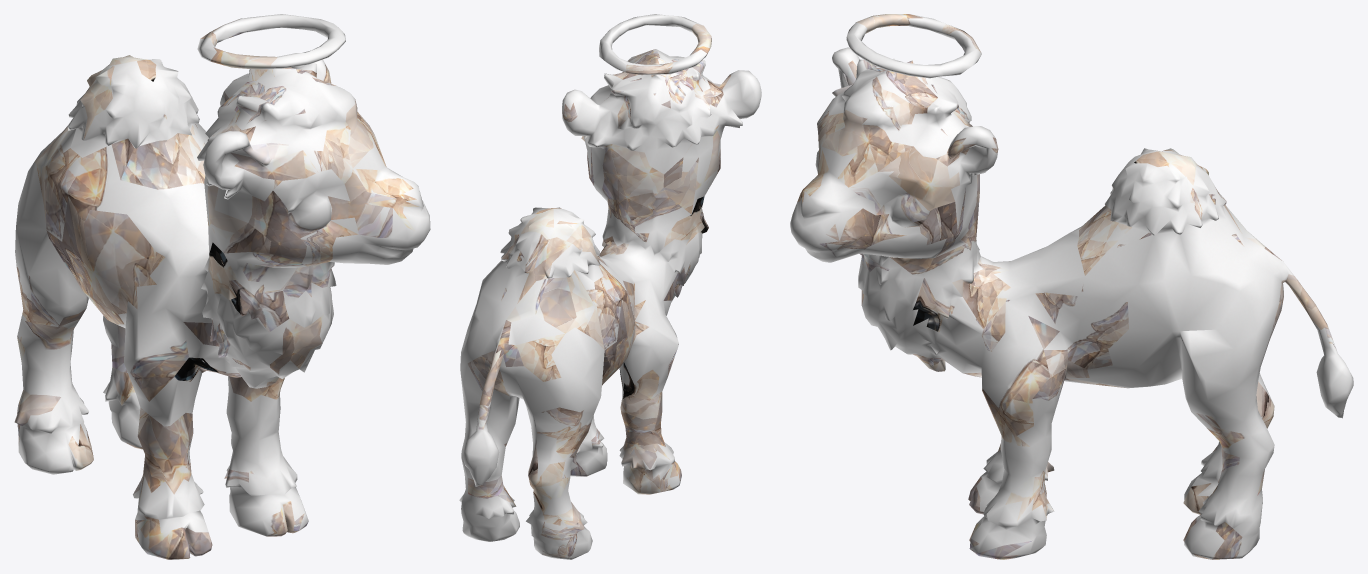
Rendered from dawn_camel_basic_5k.fbx.
The picture shows the model from 3 angles, left to right: view 1: azimuth 30°, elevation 25°; view 2: azimuth 150°, elevation 25°; view 3: azimuth 270°, elevation 25°; orthographic projection. The views are drawn at different scales.
Visible parts, largest first — view 1: dawn_camel_basic_decimated; view 2: dawn_camel_basic_decimated; view 3: dawn_camel_basic_decimated.
Part boxes in pixels (x1,y1,x2,y2): dawn_camel_basic_decimated: [14, 14, 430, 559]; dawn_camel_basic_decimated: [459, 14, 761, 559]; dawn_camel_basic_decimated: [790, 14, 1353, 559].
Bounding box in the file's own units: 0.7371 × 1.84 × 1.91.
